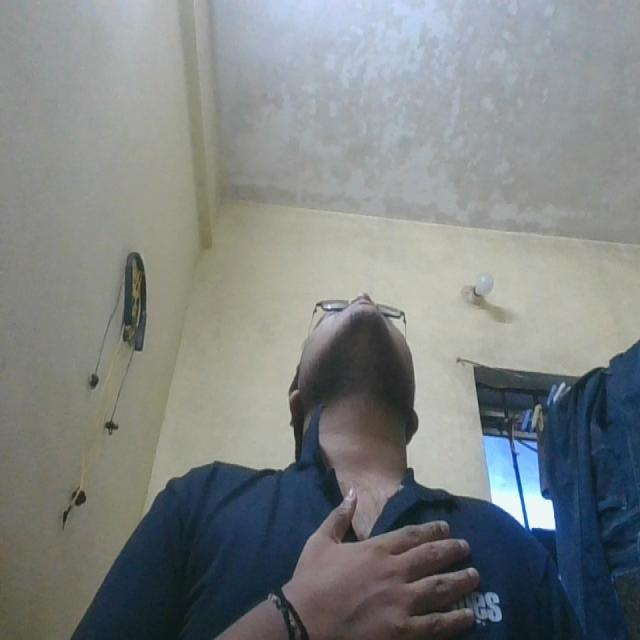Please: (293, 476, 505, 640)
